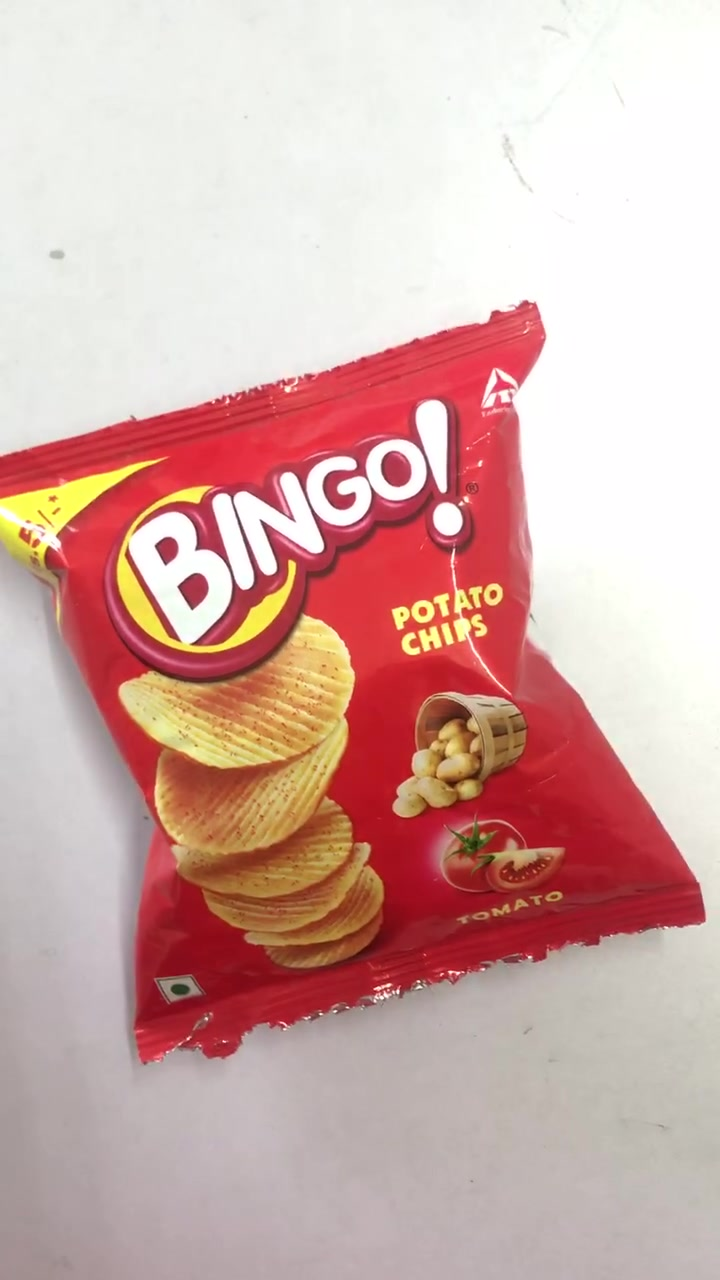Bingo: (10, 314, 699, 1053)
